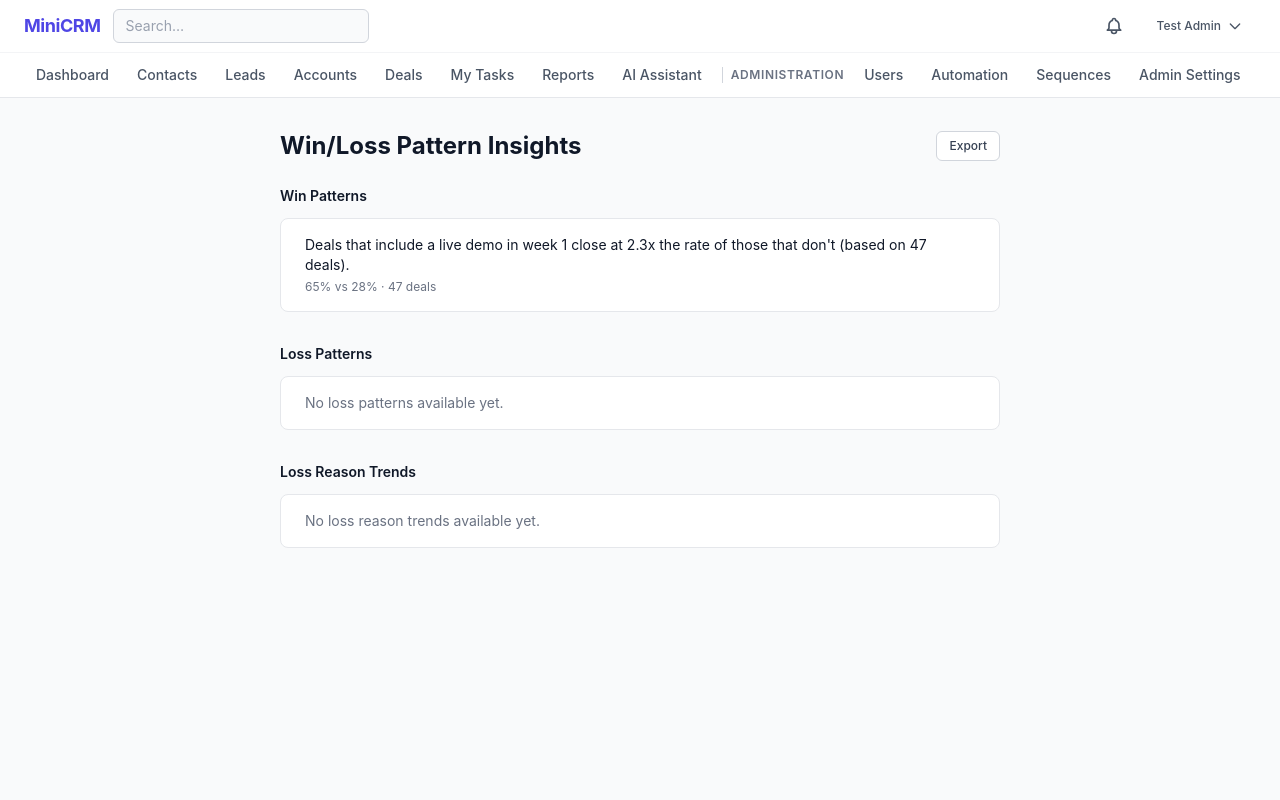
Scenario: WinLossInsightsPage › export buttons › shows an export error message when the CSV export rejects
The image size is (1280, 800).
Click the button with test id "win-loss-export-menu-button".
click(968, 146)  # box [936,131,1000,161]
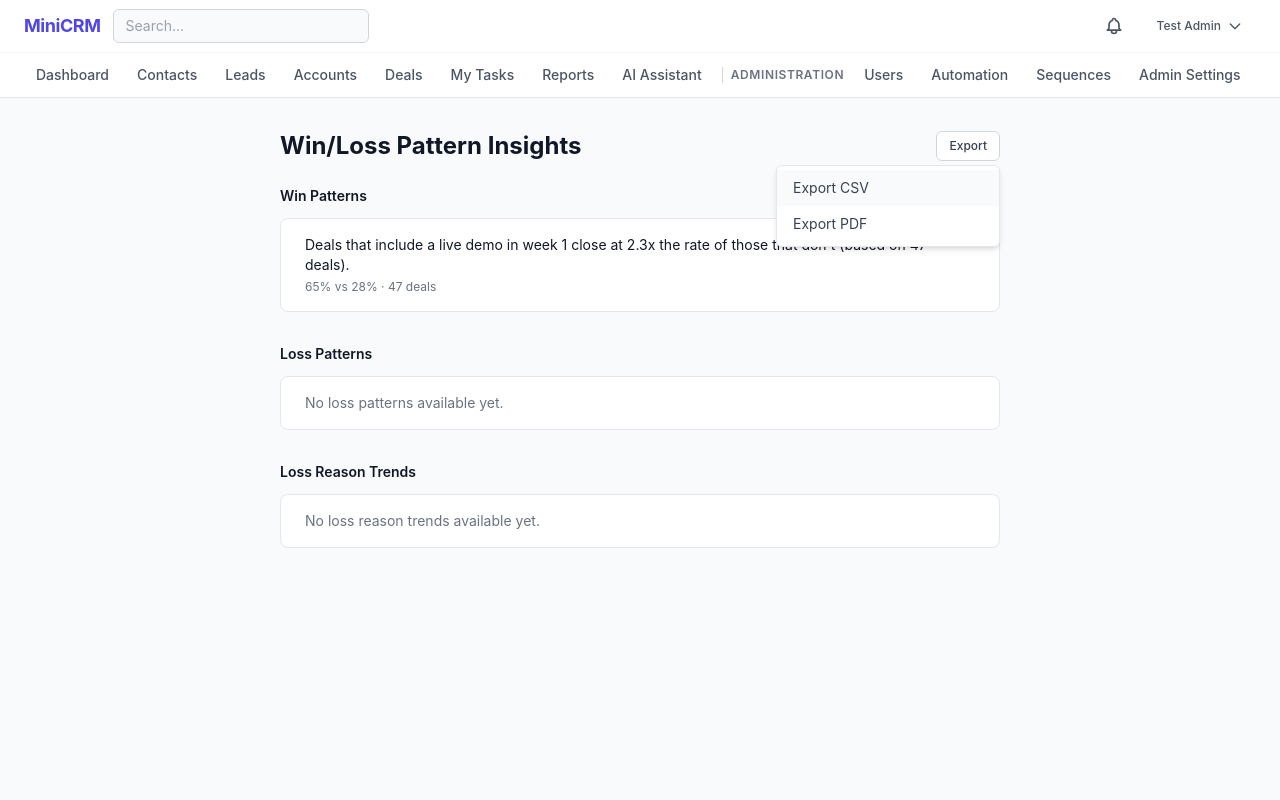
Now the menu item with test id "win-loss-export-csv-button" is enabled
Click the menu item with test id "win-loss-export-csv-button".
click(888, 188)  # box [777,170,999,206]
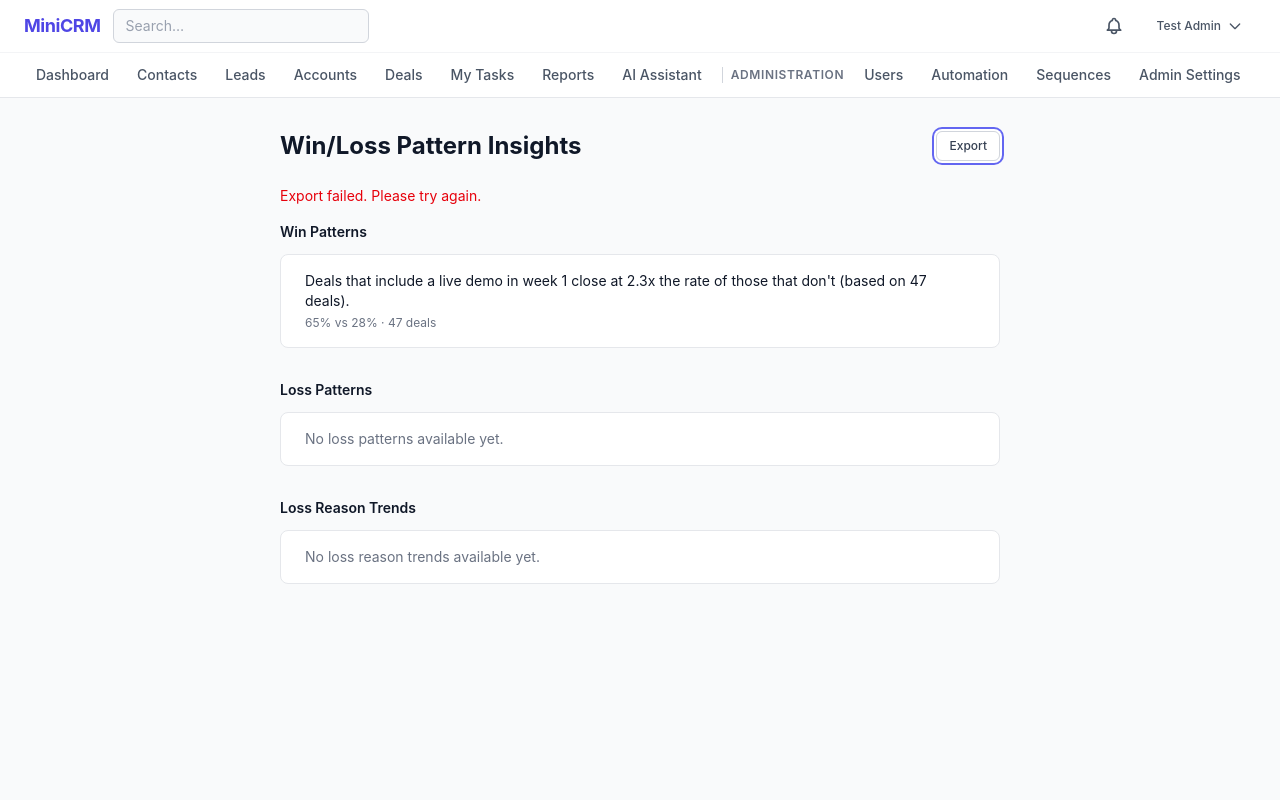
Now the message "Export failed. Please try again." is shown, box [280,187,481,204]
